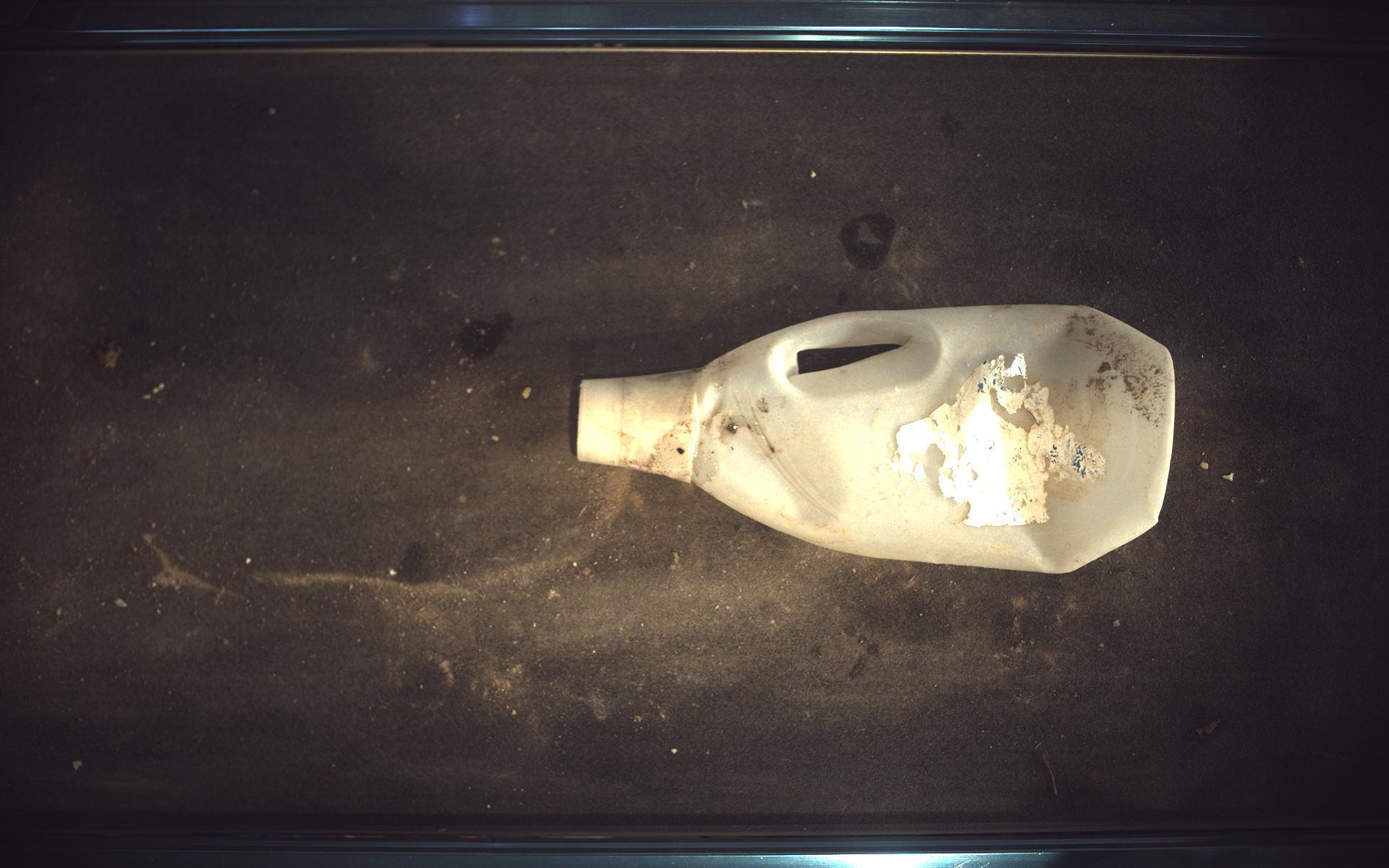general_w: (577, 305, 1178, 574)
